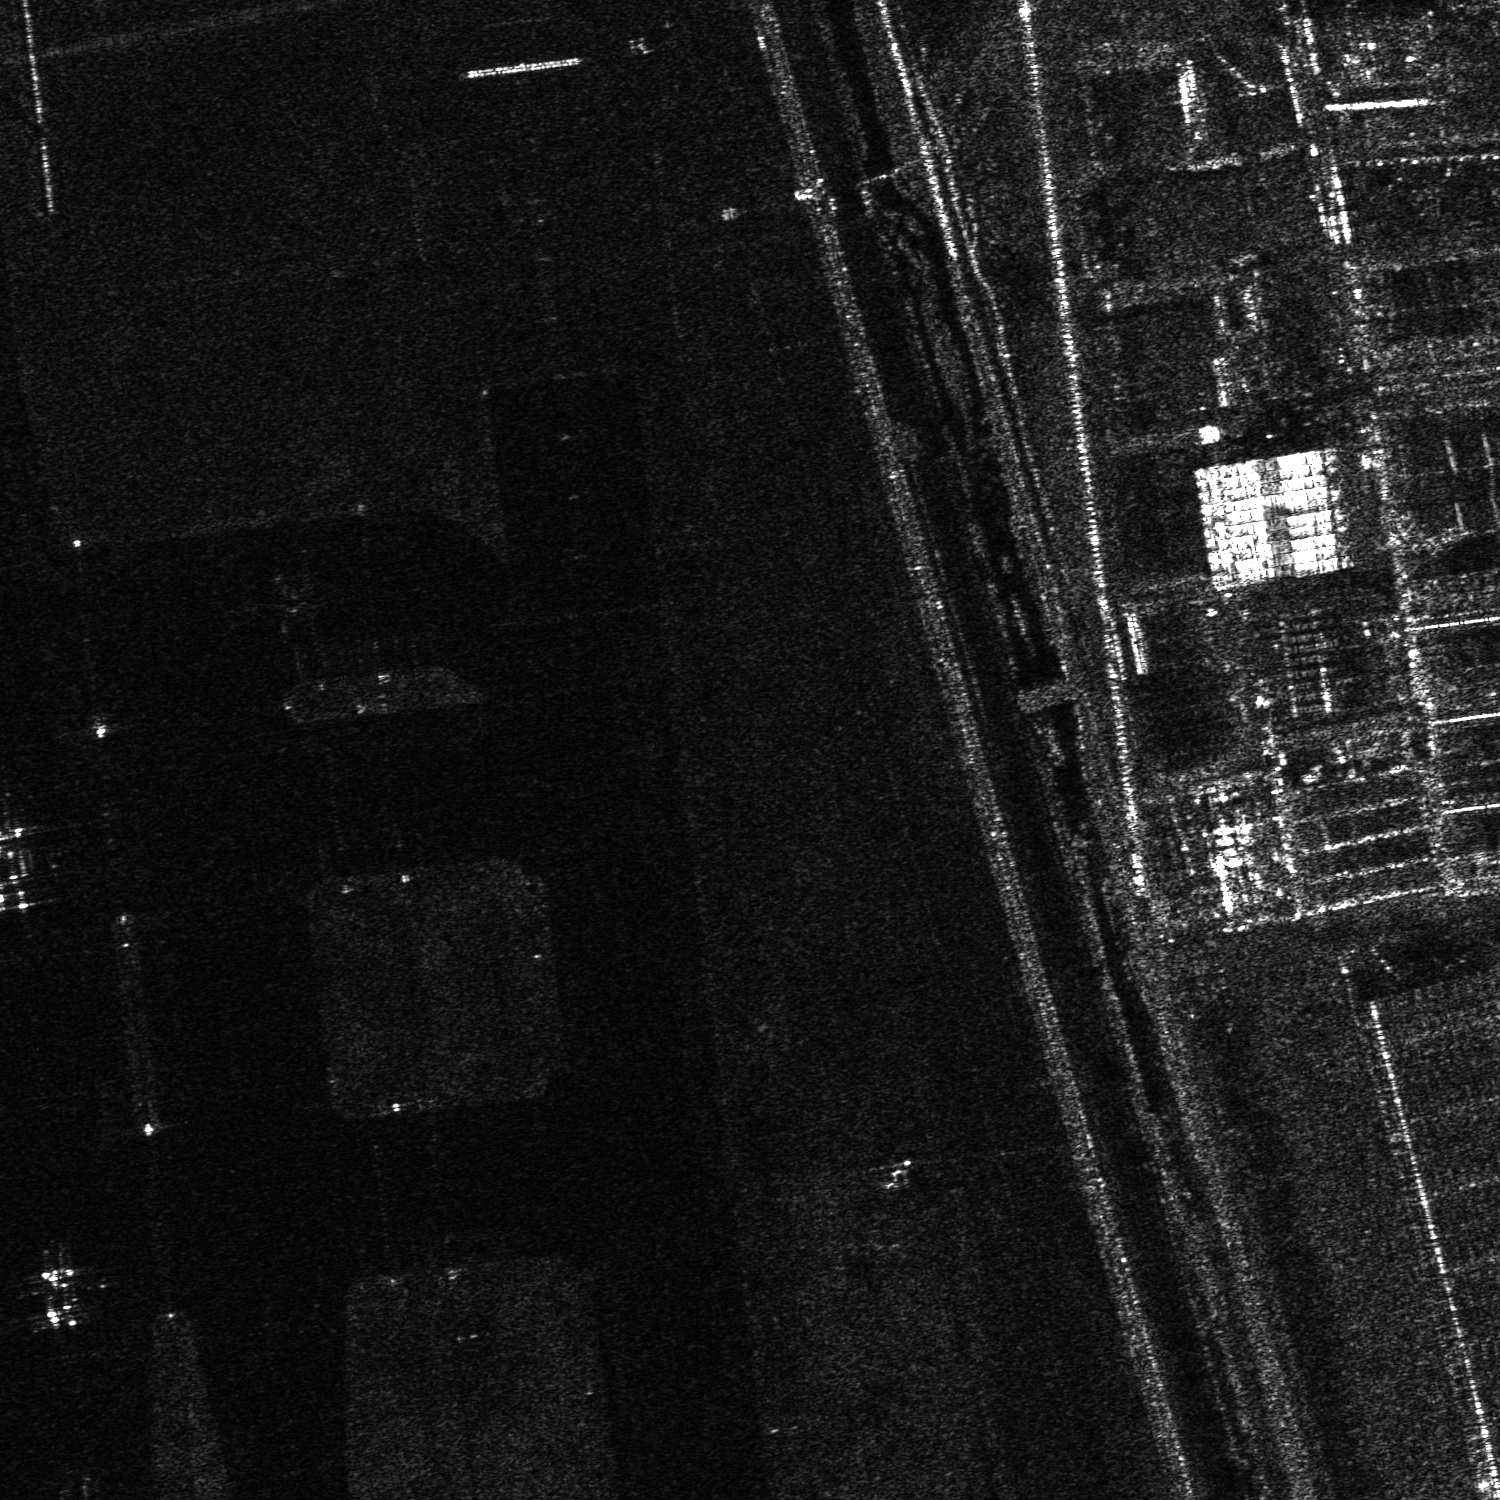Boeing787: (18, 1238, 109, 1338)
